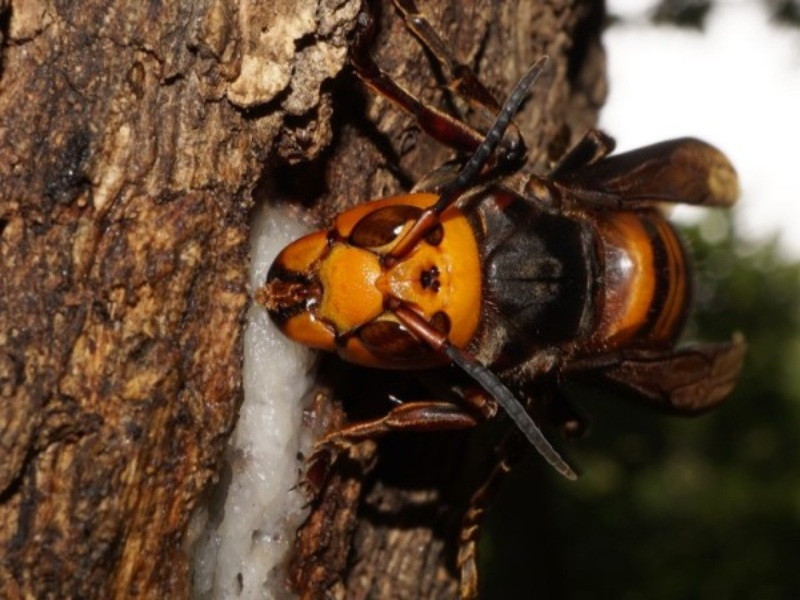asian_giant_hornet: (260, 164, 748, 412)
